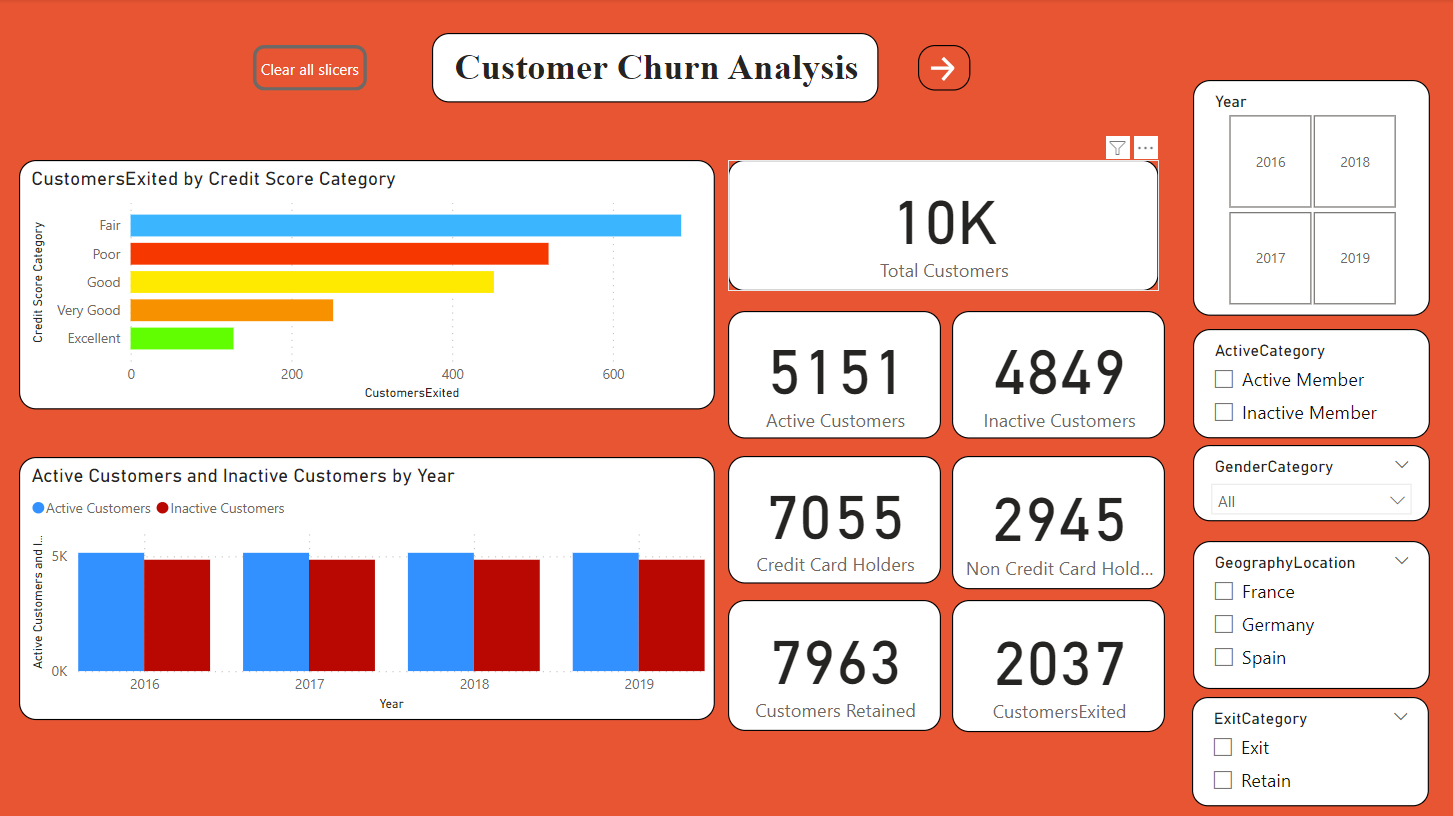

This screenshot's page, from the dashboard's own definition file:
{"tool":"powerbi","page":{"name":"Main Page","canvas":[1280,720],"ordinal":0},"visuals":[{"type":"slicer","fields":{"Values":["year.Year"]},"box":[1048.1,70.9,208.4,207.5],"z":0},{"type":"slicer","fields":{"Values":["Gender.GenderCategory"]},"box":[1048.1,391.9,208.4,67.4],"z":1000},{"type":"slicer","fields":{"Values":["Geography.GeographyLocation"]},"box":[1048.4,475.9,208.1,130],"z":2000},{"type":"slicer","fields":{"Values":["ExitCustomer.ExitCategory"]},"box":[1047.5,612.9,208.1,95.7],"z":3000},{"type":"textbox","box":[380.2,29.9,392.5,61.5],"z":4000},{"type":"slicer","fields":{"Values":["ActiveCustomer.ActiveCategory"]},"box":[1048.4,289.8,208.1,95.7],"z":5000},{"type":"clusteredColumnChart","fields":{"Category":["year.Year"],"Y":["Calculations.Active Customers","Calculations.Inactive Customers"]},"box":[17.6,402.1,611.1,230.9],"z":6000},{"type":"card","fields":{"Values":["Calculations.Active Customers"]},"box":[640.1,274,187,111.5],"z":7000},{"type":"card","fields":{"Values":["Calculations.Inactive Customers"]},"box":[836.8,274,187,111.5],"z":8000},{"type":"card","fields":{"Values":["Calculations.Credit Card Holders"]},"box":[640.1,401.3,187,112.4],"z":9000},{"type":"card","fields":{"Values":["Calculations.Non Credit Card Holders"]},"box":[836.8,401.3,187,116.8],"z":10000},{"type":"card","fields":{"Values":["Calculations.Customers Retained"]},"box":[640.1,527.7,187,115],"z":11000},{"type":"card","fields":{"Values":["Calculations.CustomersExited"]},"box":[836.8,527.7,187,115.9],"z":12000},{"type":"card","fields":{"Values":["Calculations.Total Customers"]},"box":[640.1,141.4,378.4,115],"z":13000},{"type":"barChart","fields":{"Category":["Bank_Churn.Credit Score Category"],"Y":["Calculations.CustomersExited"]},"box":[17.6,141.4,611.1,218.6],"z":14000},{"type":"actionButton","box":[223,40.4,100.1,40.4],"z":15000},{"type":"actionButton","box":[806.9,40.4,45.7,40.4],"z":16000}]}

Visuals, with their boxes in screenshot pixels (x1, y1, x2, y2), scaled from the page's 1280x720 canvas onto the 1453x816 screenshot:
slicer - year.Year: crop(1190, 80, 1426, 316)
slicer - Gender.GenderCategory: crop(1190, 444, 1426, 521)
slicer - Geography.GeographyLocation: crop(1190, 539, 1426, 687)
slicer - ExitCustomer.ExitCategory: crop(1189, 695, 1425, 803)
textbox: crop(432, 34, 877, 104)
slicer - ActiveCustomer.ActiveCategory: crop(1190, 328, 1426, 437)
clusteredColumnChart - year.Year x Calculations.Active Customers: crop(20, 456, 714, 717)
card - Calculations.Active Customers: crop(727, 311, 939, 437)
card - Calculations.Inactive Customers: crop(950, 311, 1162, 437)
card - Calculations.Credit Card Holders: crop(727, 455, 939, 582)
card - Calculations.Non Credit Card Holders: crop(950, 455, 1162, 587)
card - Calculations.Customers Retained: crop(727, 598, 939, 728)
card - Calculations.CustomersExited: crop(950, 598, 1162, 729)
card - Calculations.Total Customers: crop(727, 160, 1156, 291)
barChart - Bank_Churn.Credit Score Category x Calculations.CustomersExited: crop(20, 160, 714, 408)
actionButton: crop(253, 46, 367, 92)
actionButton: crop(916, 46, 968, 92)
